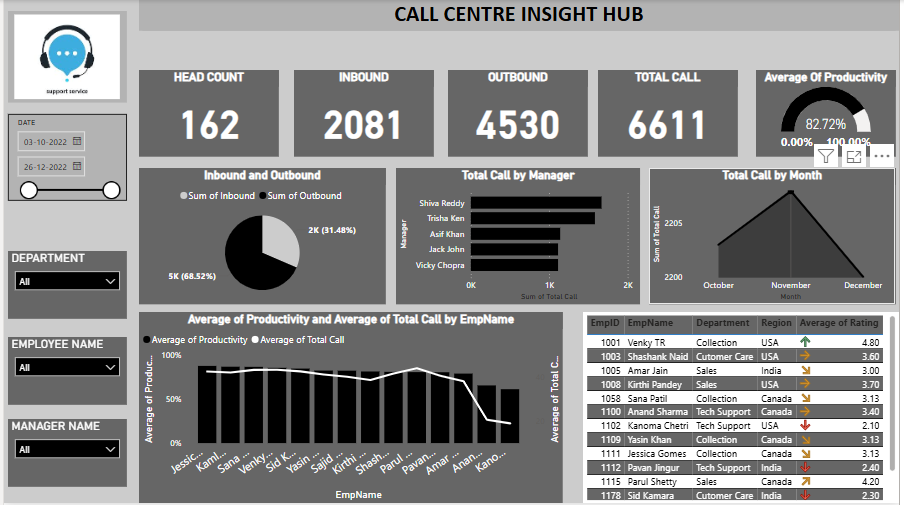

The dashboard page shown, as its layout file describes it:
{"tool":"powerbi","page":{"name":"Page 1","canvas":[1280,720],"ordinal":0},"visuals":[{"type":"textbox","title":"CALL CENTRE INSIGHT HUB","box":[193.2,0,1086.8,100.8],"z":0},{"type":"image","box":[5,15.1,169.7,131],"z":1000},{"type":"slicer","fields":{"Values":["Call Data.Weekend"]},"box":[5,162.9,169.7,124.3],"z":2000},{"type":"slicer","title":"DEPARTMENT","fields":{"Values":["Depart Merge.Department"]},"box":[5,359.5,169.7,97.4],"z":3000},{"type":"slicer","title":"EMPLOYEE NAME","fields":{"Values":["Call Data.EmpName"]},"box":[5,482.1,169.7,97.4],"z":4000},{"type":"slicer","title":"MANAGER NAME","fields":{"Values":["Reporting manager.Manager"]},"box":[5,599.7,169.7,97.4],"z":5000},{"type":"card","title":"HEAD COUNT","fields":{"Values":["CountNonNull(Call Data.EmpID)"]},"box":[193.2,100.8,200,124.3],"z":6000},{"type":"card","title":"INBOUND","fields":{"Values":["Sum(Call Data.Inbound)"]},"box":[414.9,100.8,199.9,124.3],"z":7000},{"type":"card","title":"OUTBOUND","fields":{"Values":["Sum(Call Data.Outbound)"]},"box":[635,100.8,199.9,124.3],"z":8000},{"type":"card","title":"TOTAL CALL","fields":{"Values":["Sum(Call Data.Total Call)"]},"box":[850,100.8,199.9,124.3],"z":9000},{"type":"gauge","title":"Average Of Productivity","fields":{"Y":["Avg(Call Data.Productivity)"]},"box":[1075.1,100.8,199.9,124.3],"z":10000},{"type":"pieChart","title":"Inbound and Outbound","fields":{"Y":["Sum(Call Data.Inbound)","Sum(Call Data.Outbound)"]},"box":[193.2,240.2,352.8,194.9],"z":11000},{"type":"barChart","title":" Total Call by Manager","fields":{"Category":["Reporting manager.Manager"],"Y":["Sum(Call Data.Total Call)"]},"box":[561,240.2,349.4,194.9],"z":12000},{"type":"areaChart","title":" Total Call by Month","fields":{"Y":["Sum(Call Data.Total Call)"],"Category":["Call Data.Weekend.Variation.Date Hierarchy.Month"]},"box":[922.2,240.2,352.8,194.9],"z":13000},{"type":"lineStackedColumnComboChart","fields":{"Category":["Call Data.EmpName"],"Y":["Avg(Call Data.Productivity)"],"Y2":["Avg(Call Data.Total Call)"]},"box":[193.2,446.8,606.4,273.8],"z":14000},{"type":"tableEx","fields":{"Values":["Call Data.EmpID","Call Data.EmpName","Depart Merge.Department","Depart Merge.Region","Depart Merge.Rating"]},"box":[828.1,446.8,451.9,273.8],"z":15000}]}

Visuals, with their boxes in screenshot pixels (x1, y1, x2, y2), scaled from the page's 1280x720 canvas onto the 904x505 screenshot:
"CALL CENTRE INSIGHT HUB" textbox: l=136, t=0, r=903, b=71
image: l=4, t=11, r=123, b=102
slicer - Call Data.Weekend: l=4, t=114, r=123, b=201
"DEPARTMENT" slicer: l=4, t=252, r=123, b=320
"EMPLOYEE NAME" slicer: l=4, t=338, r=123, b=406
"MANAGER NAME" slicer: l=4, t=421, r=123, b=489
"HEAD COUNT" card: l=136, t=71, r=278, b=158
"INBOUND" card: l=293, t=71, r=434, b=158
"OUTBOUND" card: l=448, t=71, r=590, b=158
"TOTAL CALL" card: l=600, t=71, r=741, b=158
"Average Of Productivity" gauge: l=759, t=71, r=900, b=158
"Inbound and Outbound" pieChart: l=136, t=168, r=386, b=305
" Total Call by Manager" barChart: l=396, t=168, r=643, b=305
" Total Call by Month" areaChart: l=651, t=168, r=900, b=305
lineStackedColumnComboChart - Call Data.EmpName x Avg(Call Data.Productivity): l=136, t=313, r=565, b=504
tableEx - Call Data.EmpID x Call Data.EmpName: l=585, t=313, r=903, b=504
